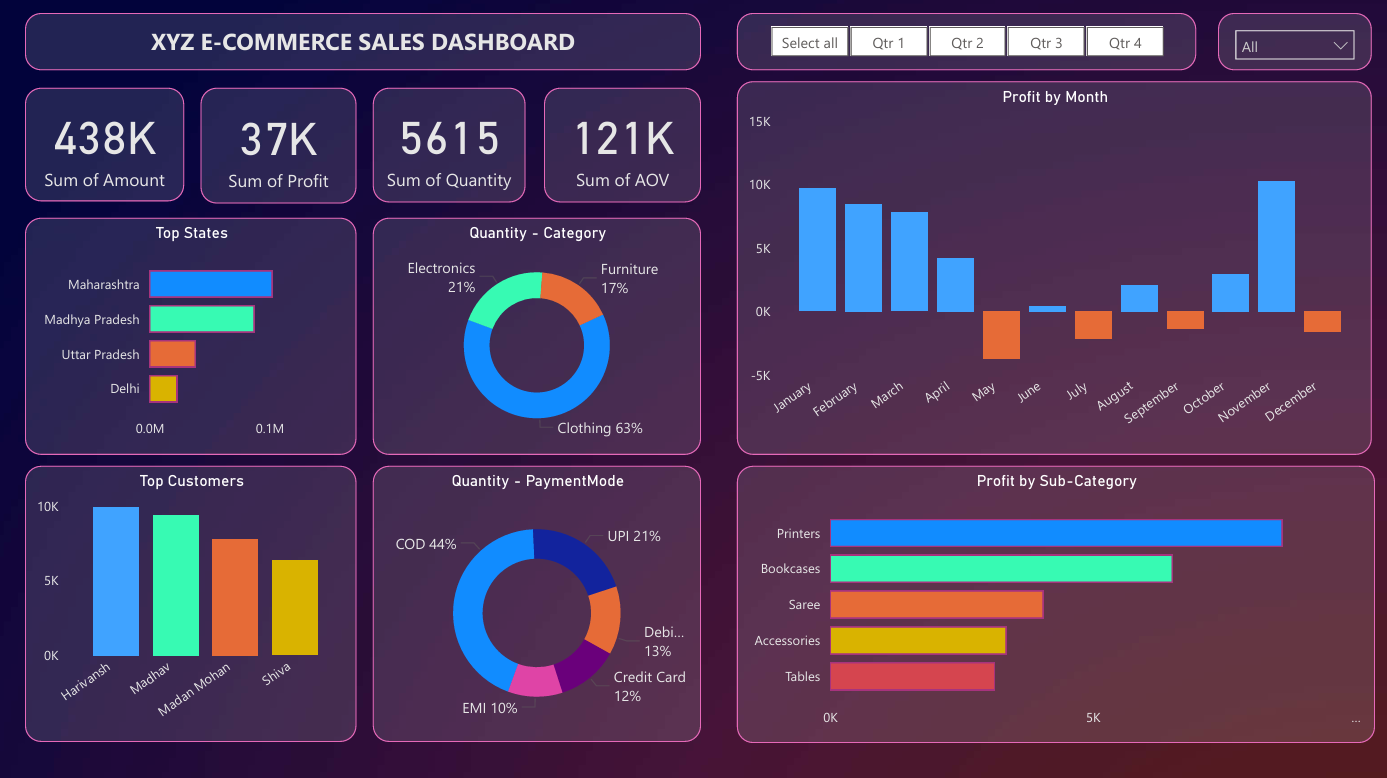

This screenshot's page, from the dashboard's own definition file:
{"tool":"powerbi","page":{"name":"Page 1","canvas":[1280,720],"ordinal":0},"visuals":[{"type":"textbox","box":[22.9,10.9,623.7,53.1],"z":0},{"type":"columnChart","title":"Profit by Month","fields":{"Y":["Details.Profit"],"Category":["Orders.Order Date.Variation.Date Hierarchy.Month"]},"box":[680.4,73.6,585.1,345],"z":1000},{"type":"barChart","title":"Profit by Sub-Category","fields":{"Category":["Details.Sub-Category"],"Y":["Details.Profit"]},"box":[680.4,429.5,588.7,255.8],"z":2000},{"type":"donutChart","title":"Quantity - Category","fields":{"Category":["Details.Category"],"Y":["Details.Quantity"]},"box":[343.8,200.3,302.8,218.4],"z":3000},{"type":"donutChart","title":"Quantity - PaymentMode","fields":{"Y":["Details.Quantity"],"Category":["Details.PaymentMode"]},"box":[343.8,429.5,302.8,254.6],"z":4000},{"type":"card","fields":{"Values":["Details.Amount"]},"box":[22.9,79.6,147.2,105],"z":5000},{"type":"card","fields":{"Values":["Details.Profit"]},"box":[184.6,79.6,144.8,107.4],"z":6000},{"type":"card","fields":{"Values":["Details.Quantity"]},"box":[343.8,79.6,141.2,106.2],"z":7000},{"type":"card","fields":{"Values":["Details.AOV"]},"box":[501.9,79.6,144.8,106.2],"z":8000},{"type":"barChart","title":"Top States","fields":{"Category":["Orders.State"],"Y":["Details.Amount"]},"box":[22.9,200.3,306.4,218.4],"z":9000},{"type":"columnChart","title":"Top Customers","fields":{"Category":["Orders.CustomerName"],"Y":["Details.Amount"]},"box":[22.9,429.5,306.4,254.6],"z":10000},{"type":"slicer","fields":{"Values":["Orders.Order Date.Variation.Date Hierarchy.Quarter"]},"box":[680.4,10.9,423.5,53.1],"z":11000},{"type":"slicer","fields":{"Values":["Orders.State"]},"box":[1124.4,10.9,141.2,53.1],"z":12000}]}

Visuals, with their boxes in screenshot pixels (x1, y1, x2, y2), scaled from the page's 1280x720 canvas onto the 1387x778 screenshot:
textbox: pyautogui.locateOnScreen(25, 12, 701, 69)
"Profit by Month" columnChart: pyautogui.locateOnScreen(737, 80, 1371, 452)
"Profit by Sub-Category" barChart: pyautogui.locateOnScreen(737, 464, 1375, 741)
"Quantity - Category" donutChart: pyautogui.locateOnScreen(373, 216, 701, 452)
"Quantity - PaymentMode" donutChart: pyautogui.locateOnScreen(373, 464, 701, 739)
card - Details.Amount: pyautogui.locateOnScreen(25, 86, 184, 199)
card - Details.Profit: pyautogui.locateOnScreen(200, 86, 357, 202)
card - Details.Quantity: pyautogui.locateOnScreen(373, 86, 526, 201)
card - Details.AOV: pyautogui.locateOnScreen(544, 86, 701, 201)
"Top States" barChart: pyautogui.locateOnScreen(25, 216, 357, 452)
"Top Customers" columnChart: pyautogui.locateOnScreen(25, 464, 357, 739)
slicer - Orders.Order Date.Variation.Date Hierarchy.Quarter: pyautogui.locateOnScreen(737, 12, 1196, 69)
slicer - Orders.State: pyautogui.locateOnScreen(1218, 12, 1371, 69)
